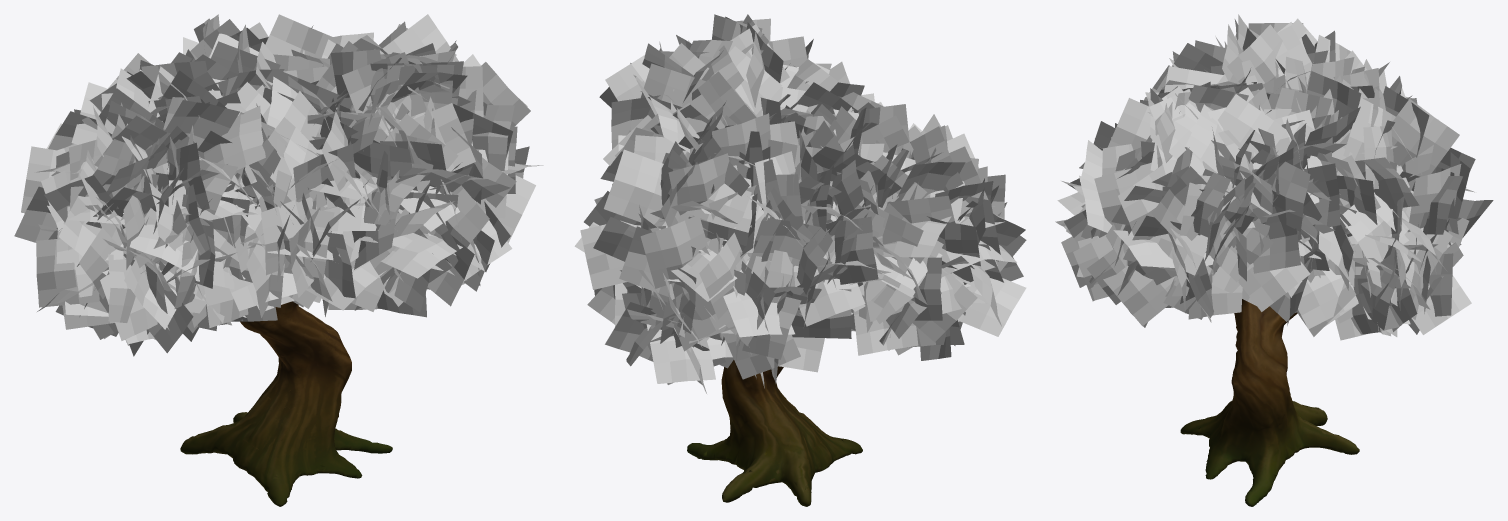
File: arbre.fbx
3 renders of one model, left to right at view 1: azimuth 30°, elevation 25°; view 2: azimuth 150°, elevation 25°; view 3: azimuth 270°, elevation 25°, orthographic. The views are drawn at different scales.
Visible parts, largest first — view 1: tree_lp.003; view 2: tree_lp.003; view 3: tree_lp.003.
Part boxes in pixels (bbox=[...]): tree_lp.003: bbox=[14, 14, 543, 506]; tree_lp.003: bbox=[574, 14, 1026, 506]; tree_lp.003: bbox=[1055, 14, 1493, 506].
Size of the model in its own units: 576 by 519 by 511.
